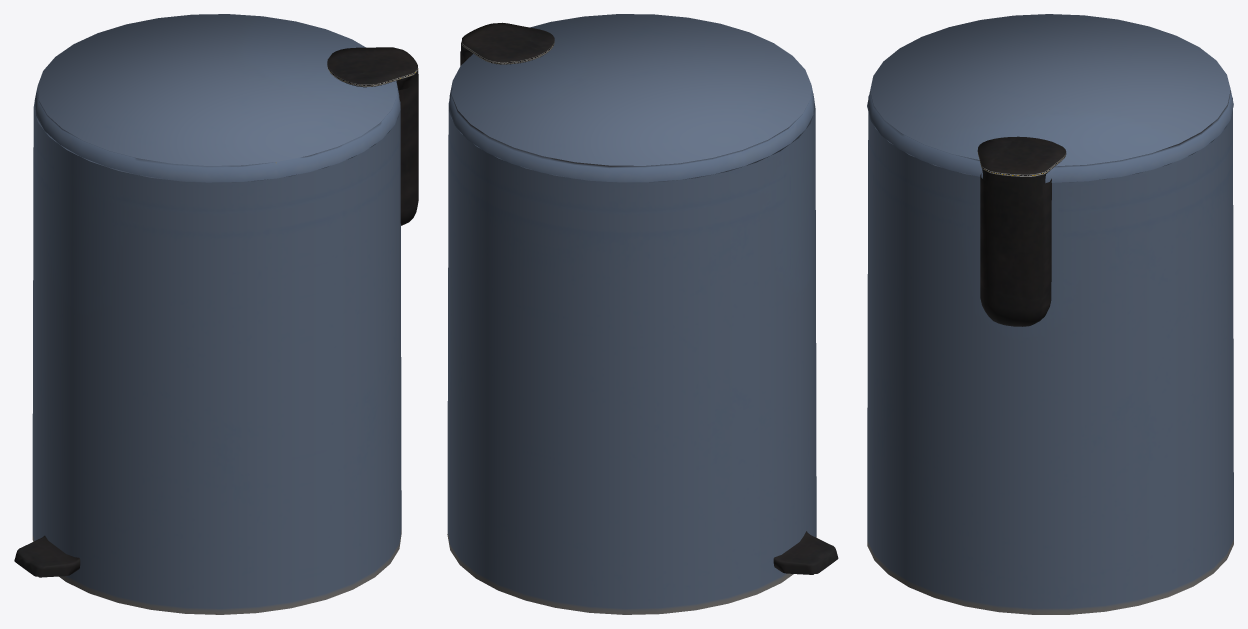
File: SM_Dustbin.fbx
3 views of the same model, side by side, from view 1: azimuth 30°, elevation 25°; view 2: azimuth 150°, elevation 25°; view 3: azimuth 270°, elevation 25° (orthographic).
Parts seen in each view (by area): view 1: SM_Dustbin; view 2: SM_Dustbin; view 3: SM_Dustbin.
Part boxes in pixels (<box>): SM_Dustbin: <box>14,14,418,614</box>; SM_Dustbin: <box>447,14,838,614</box>; SM_Dustbin: <box>867,14,1233,614</box>.
Size of the model in its own units: 35.74 by 41.09 by 30.36.
